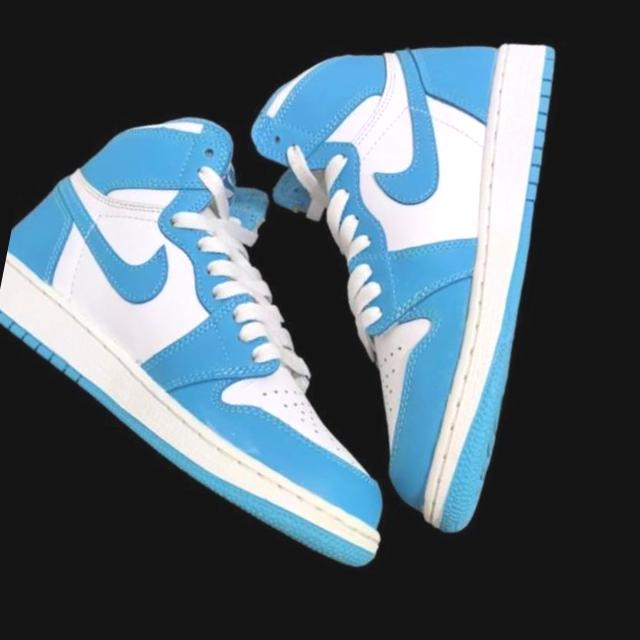nike_original_jordan: (0, 45, 497, 640), (153, 0, 640, 583)
